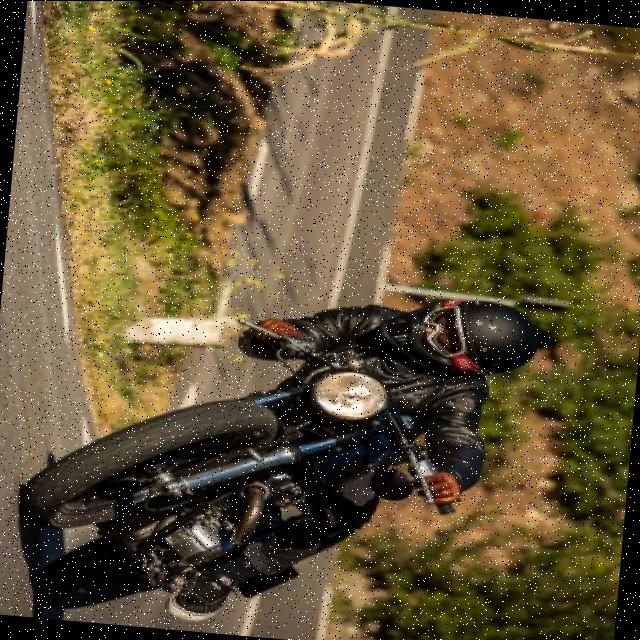Helm: (374, 288, 546, 386)
